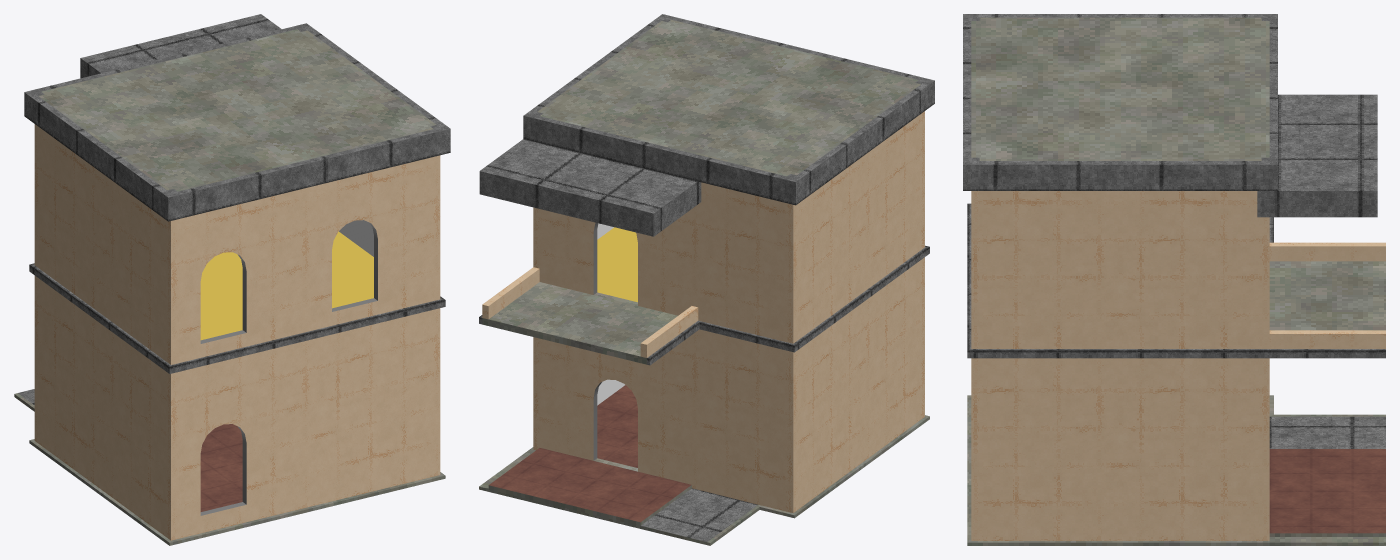
File: cs_se_building_1.glb
The picture shows the model from 3 angles, left to right: view 1: azimuth 30°, elevation 25°; view 2: azimuth 150°, elevation 25°; view 3: azimuth 270°, elevation 25°; orthographic projection. The views are drawn at different scales.
Visible parts, largest first — view 1: Room1; view 2: Room1; view 3: Room1.
Boxes of the visible parts, x1,y1,x2,y2 form: Room1: [14, 14, 450, 545]; Room1: [479, 14, 934, 545]; Room1: [963, 14, 1385, 545].
Bounding box in the file's own units: 8.6 × 10.2 × 10.2.
Materials: 7 (4 with a texture image).
